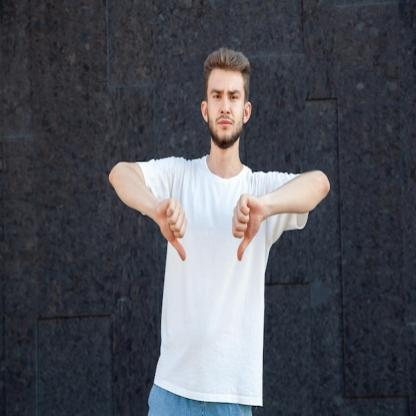thumb_down: (156, 193, 194, 263), (232, 192, 260, 264)
